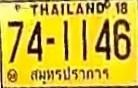1: (81, 18, 86, 60), (63, 20, 68, 60)
4: (94, 18, 110, 59), (26, 20, 42, 60)
6: (112, 18, 130, 59)
7: (7, 20, 23, 62)
SPK: (28, 65, 111, 85)
